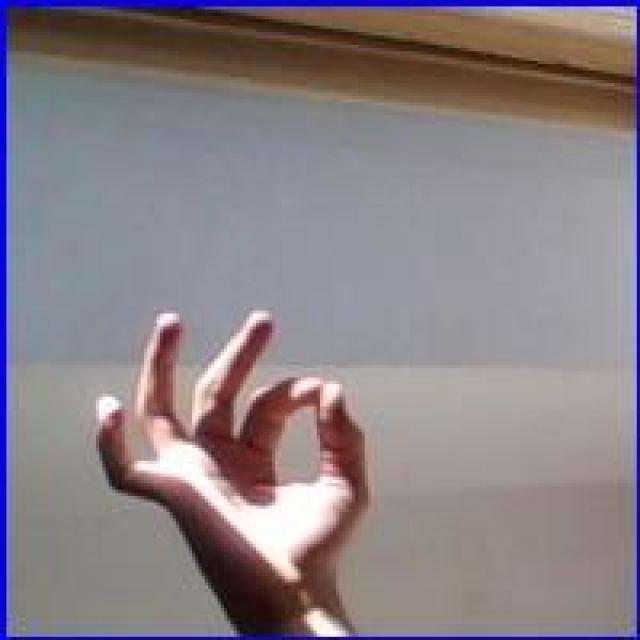F: (90, 306, 378, 622)
